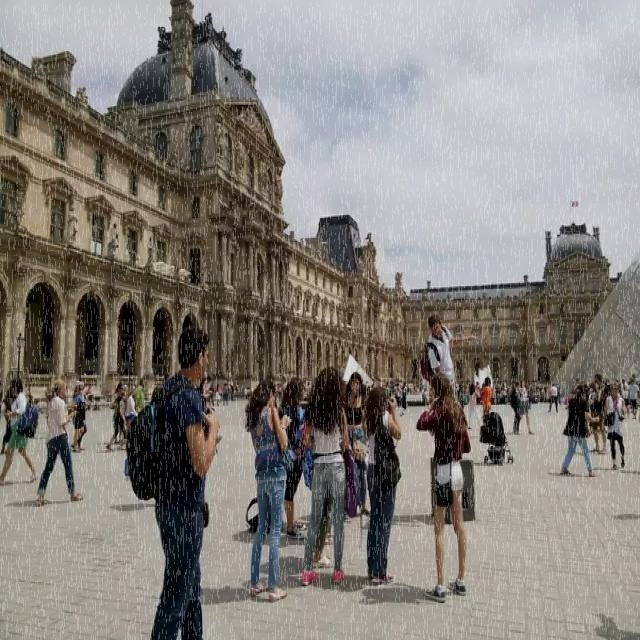pessoa: (122, 321, 224, 638), (414, 372, 476, 606), (244, 378, 298, 603), (300, 364, 350, 588), (361, 381, 404, 585), (33, 378, 85, 508), (276, 374, 310, 541), (0, 375, 42, 489), (340, 368, 371, 518), (99, 366, 150, 452), (562, 371, 639, 422), (452, 370, 560, 406), (559, 381, 598, 480), (418, 312, 460, 399), (67, 368, 103, 455), (292, 293, 362, 336), (362, 376, 432, 409), (602, 382, 628, 470), (586, 372, 610, 454), (194, 374, 238, 409), (60, 202, 84, 255), (138, 225, 160, 273), (516, 378, 534, 436), (35, 366, 54, 419), (466, 380, 484, 430), (8, 176, 24, 230), (480, 374, 496, 425), (509, 378, 523, 436), (106, 220, 124, 260), (624, 377, 639, 422), (452, 380, 468, 420), (171, 243, 184, 290), (271, 375, 287, 402), (548, 382, 560, 417), (478, 381, 494, 404)
